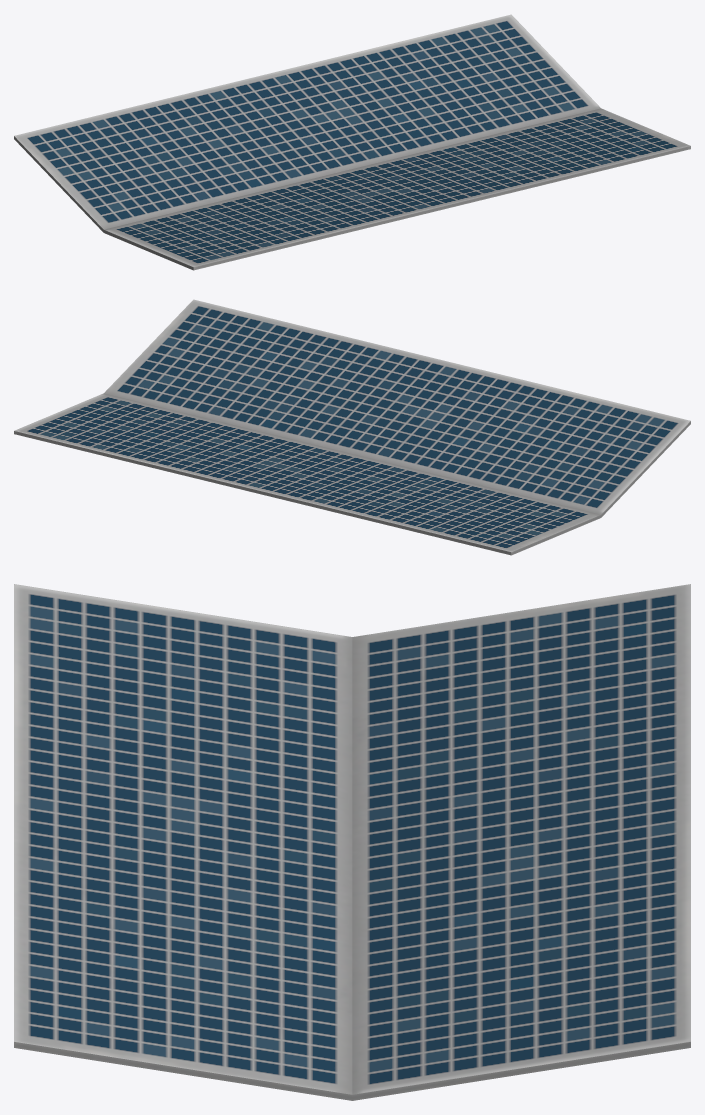
The model's file is Alniyat_Solar_1_Panel_3.obj.
3 renders of one model, top to bottom at view 1: azimuth 30°, elevation 25°; view 2: azimuth 150°, elevation 25°; view 3: azimuth 270°, elevation 25°, orthographic. The views are drawn at different scales.
Visible parts, largest first — view 1: Alniyat_Solar_1_Panel_3; view 2: Alniyat_Solar_1_Panel_3; view 3: Alniyat_Solar_1_Panel_3.
Part boxes in pixels (box(x1,y1,x2,y2)): Alniyat_Solar_1_Panel_3: box(14, 14, 690, 270); Alniyat_Solar_1_Panel_3: box(14, 299, 690, 555); Alniyat_Solar_1_Panel_3: box(14, 584, 690, 1100).
Bounding box in the file's own units: 1.6 × 0.0965 × 1.
